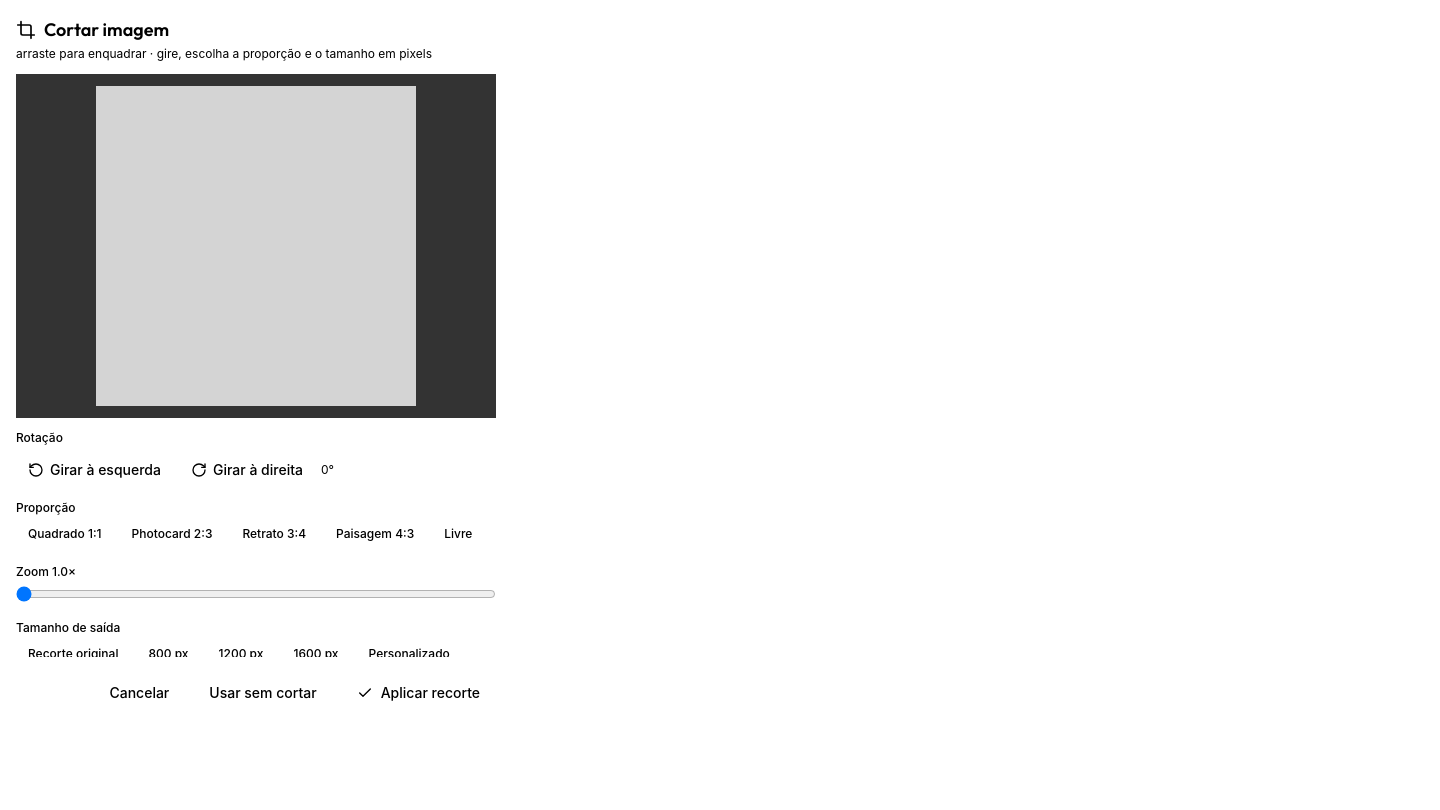
Test: ImageCropDialog › rotates in both directions and wraps around
The image size is (1440, 810).
Check: the text "0°" is shown, box x1=321 y1=462 x2=334 y2=478
Step 1. Click the button "Girar à direita" → (247, 470), box x1=179 y1=452 x2=315 y2=488
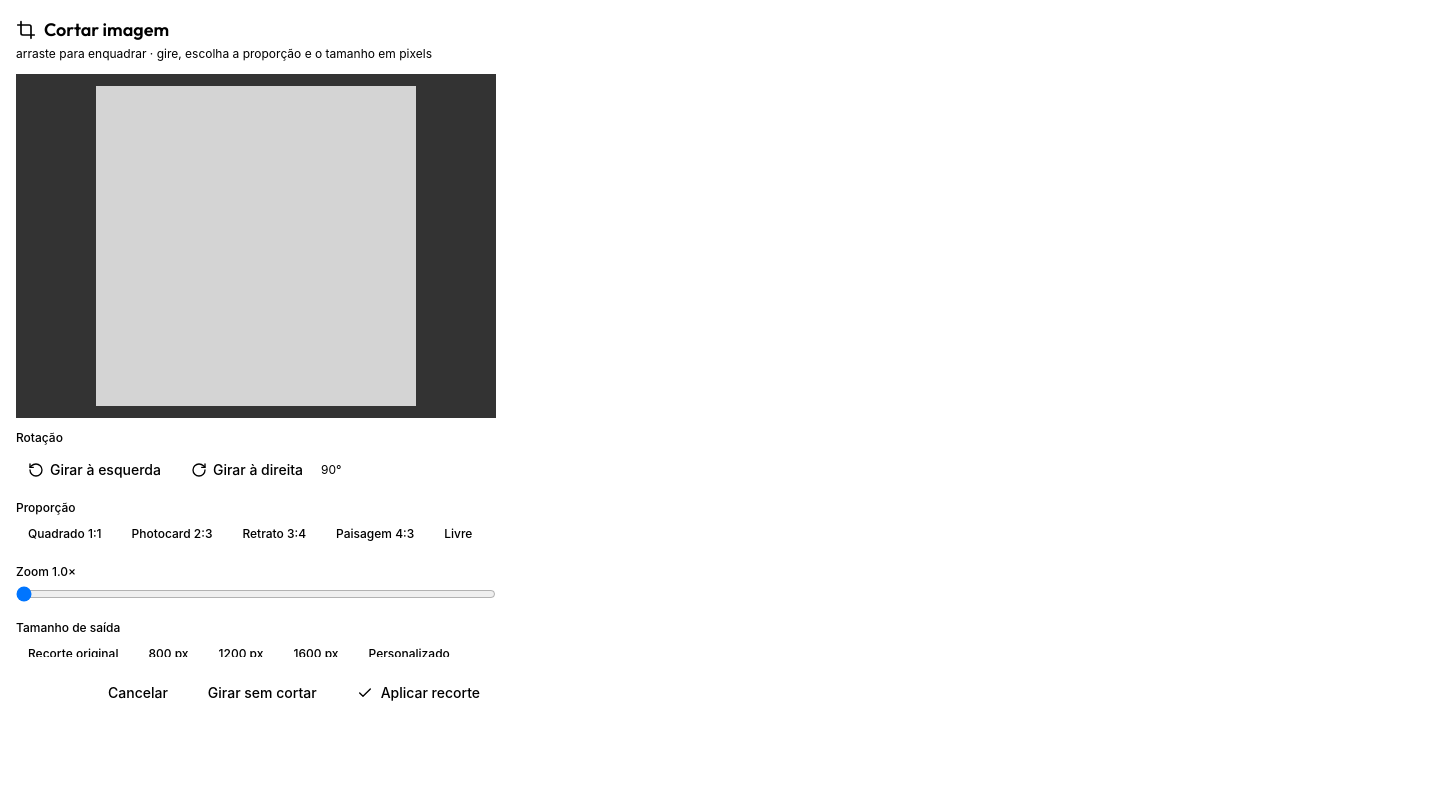
Check: the text "90°" is shown, box x1=321 y1=462 x2=342 y2=478
Step 2. Click the button "Girar à esquerda" → (94, 470), box x1=16 y1=452 x2=173 y2=488
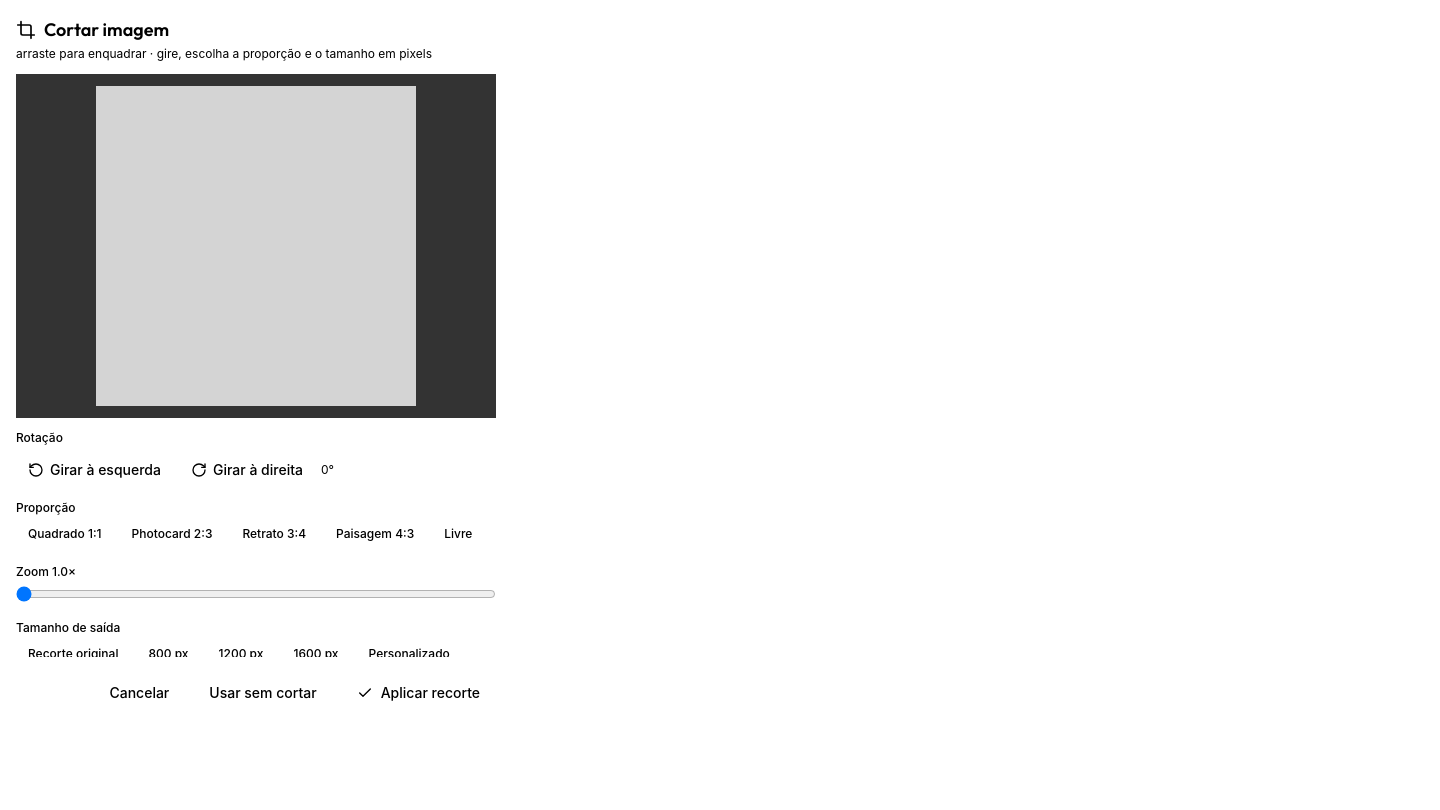
Check: the text "0°" is shown, box x1=321 y1=462 x2=334 y2=478
Step 3. Click the button "Girar à esquerda" → (94, 470), box x1=16 y1=452 x2=173 y2=488
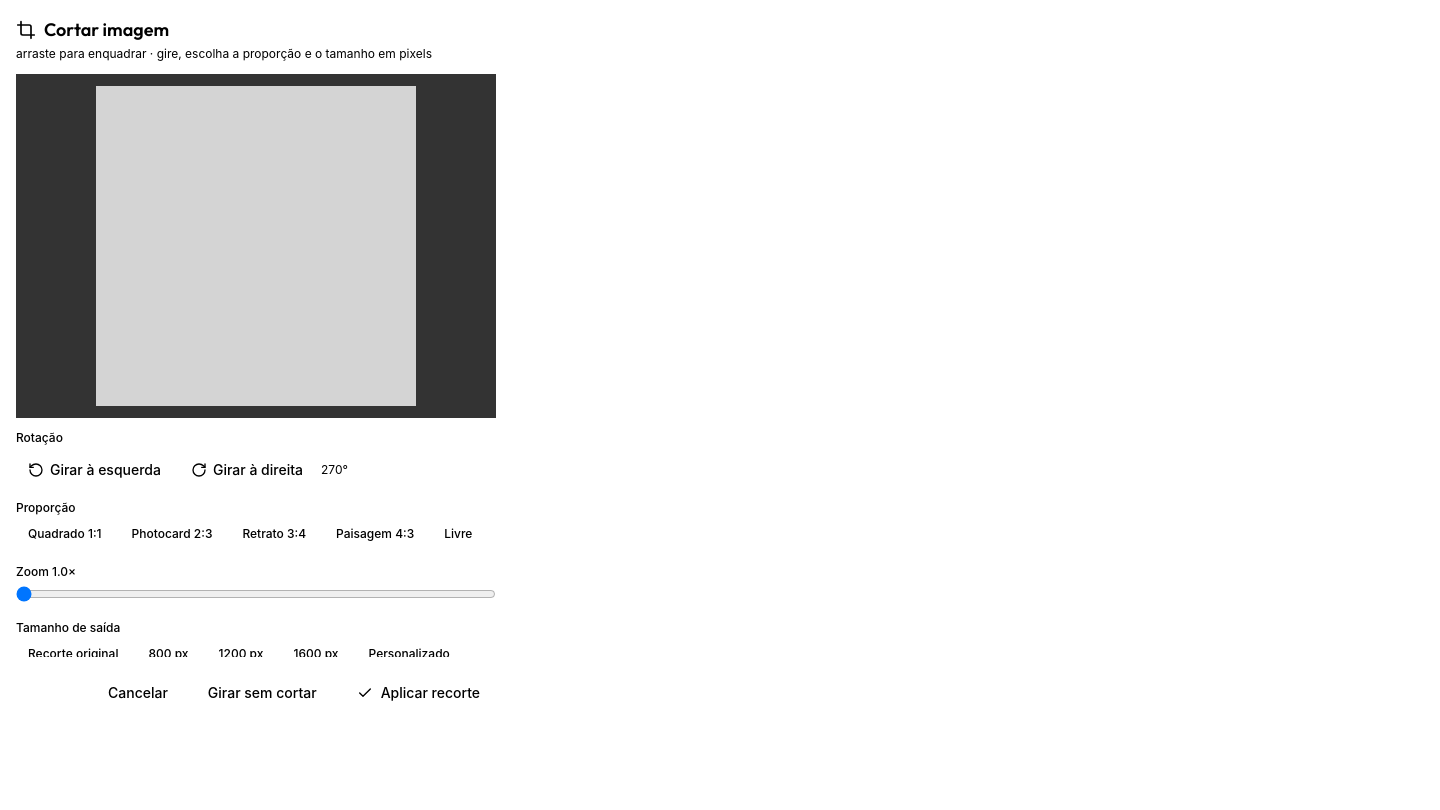
Check: the text "270°" is shown, box x1=321 y1=462 x2=348 y2=478
